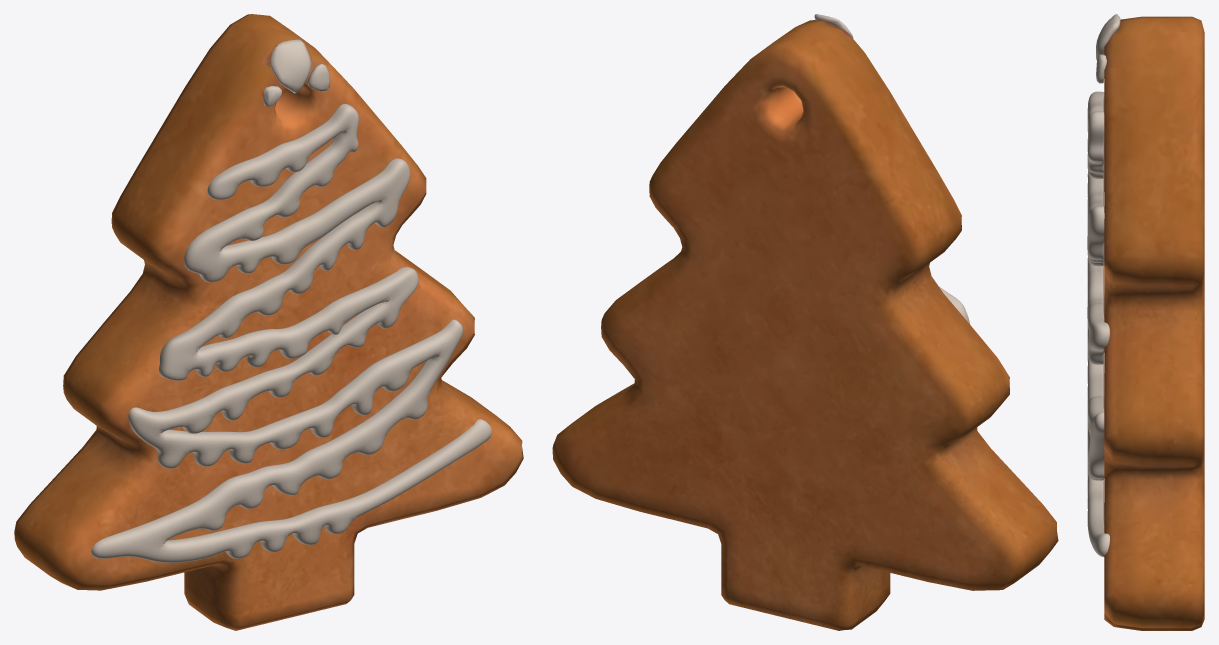
The model's file is ginger-tree-1.glb.
3 renders of one model, left to right at view 1: azimuth 30°, elevation 25°; view 2: azimuth 150°, elevation 25°; view 3: azimuth 270°, elevation 25°, orthographic.
Visible parts, largest first — view 1: Christmas tree_1; view 2: Christmas tree_1; view 3: Christmas tree_1.
Boxes of the visible parts, bbox=[...] form: Christmas tree_1: bbox=[14, 14, 523, 630]; Christmas tree_1: bbox=[552, 14, 1058, 630]; Christmas tree_1: bbox=[1087, 14, 1204, 630].
Size of the model in its own units: 0.0661 by 0.077 by 0.014.
1 material, 1 textured.
